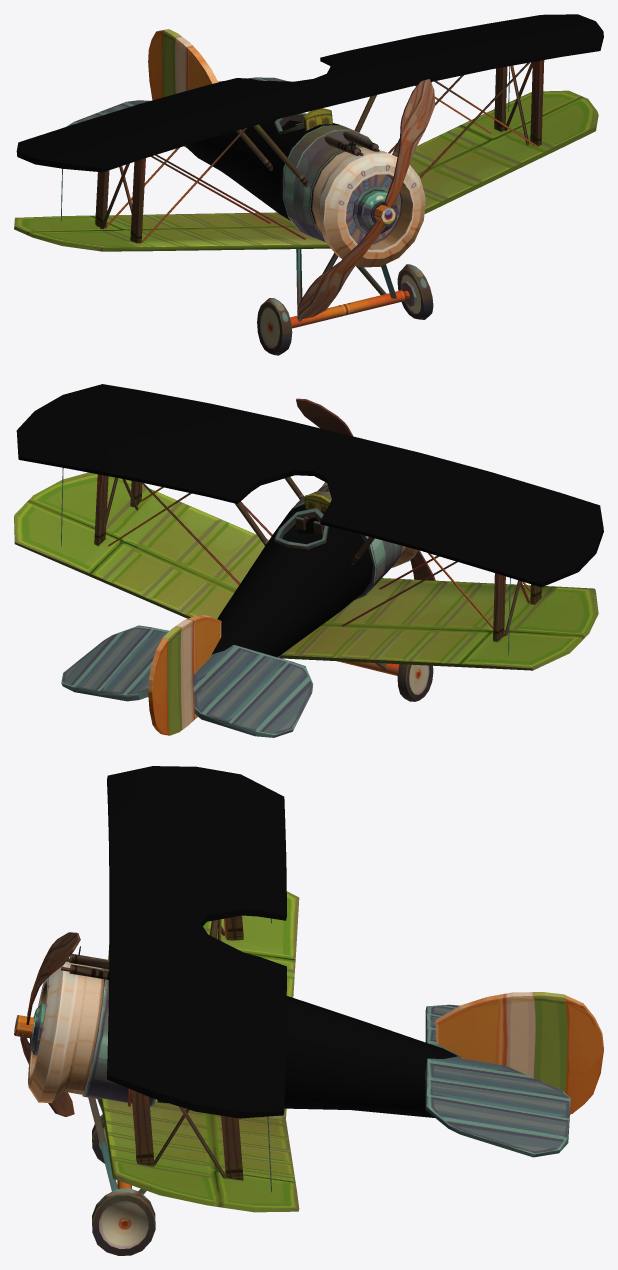
3 renders of one model, top to bottom at view 1: azimuth 30°, elevation 25°; view 2: azimuth 150°, elevation 25°; view 3: azimuth 270°, elevation 25°, orthographic. The views are drawn at different scales.
Visible parts, largest first — view 1: BODY; view 2: BODY; view 3: BODY.
Boxes of the visible parts, left/top/right/bottom form: BODY: left=14, top=14, right=603, bottom=355; BODY: left=14, top=384, right=603, bottom=737; BODY: left=14, top=766, right=603, bottom=1255.
Size of the model in its own units: 288 by 125 by 213.
Materials: 1 (1 with a texture image).
